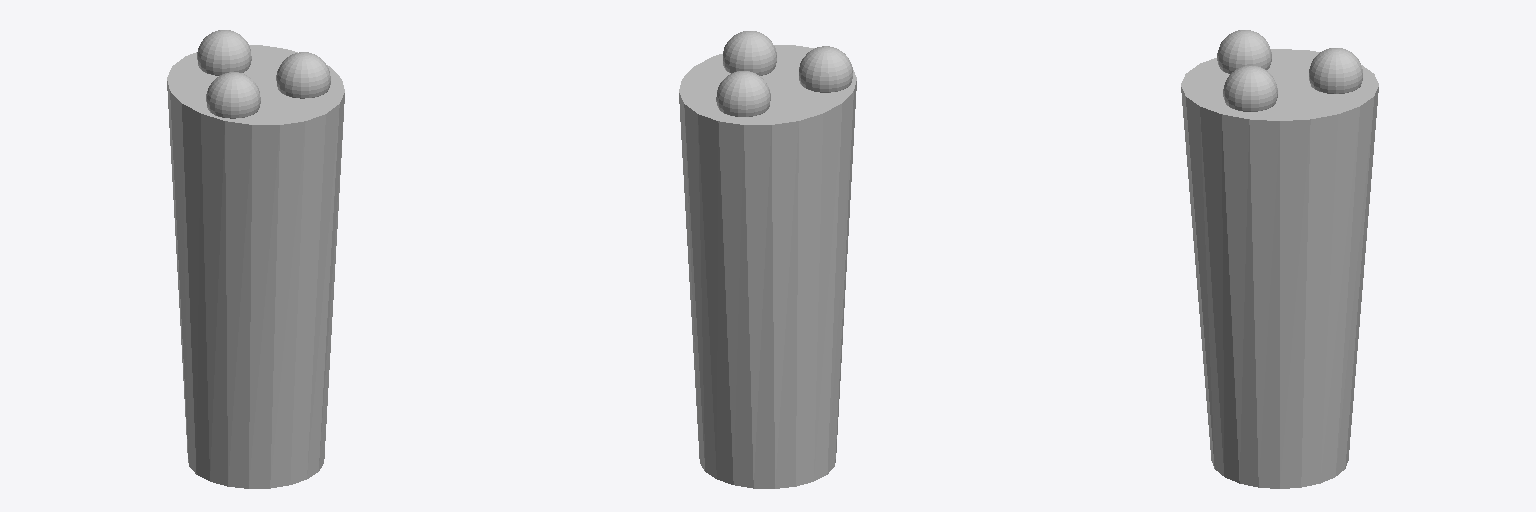
Rendered from Tower_3.obj.
3 renders of one model, left to right at view 1: azimuth 30°, elevation 25°; view 2: azimuth 150°, elevation 25°; view 3: azimuth 270°, elevation 25°, orthographic.
Visible parts, largest first — view 1: pCylinder1, pSphere3, pSphere2, pSphere4; view 2: pCylinder1, pSphere3, pSphere4, pSphere2; view 3: pCylinder1, pSphere2, pSphere4, pSphere3.
Boxes of the visible parts, box(x1,y1,x2,y2) form: pCylinder1: box(167, 45, 344, 488); pSphere3: box(206, 72, 260, 118); pSphere2: box(276, 52, 330, 98); pSphere4: box(197, 30, 251, 75); pCylinder1: box(679, 45, 856, 488); pSphere3: box(799, 46, 852, 92); pSphere4: box(716, 71, 770, 116); pSphere2: box(723, 31, 776, 75); pCylinder1: box(1181, 49, 1378, 488); pSphere2: box(1223, 65, 1277, 111); pSphere4: box(1309, 48, 1362, 93); pSphere3: box(1217, 30, 1271, 73).
Bounding box in the file's own units: 2.5 × 6.56 × 2.89.